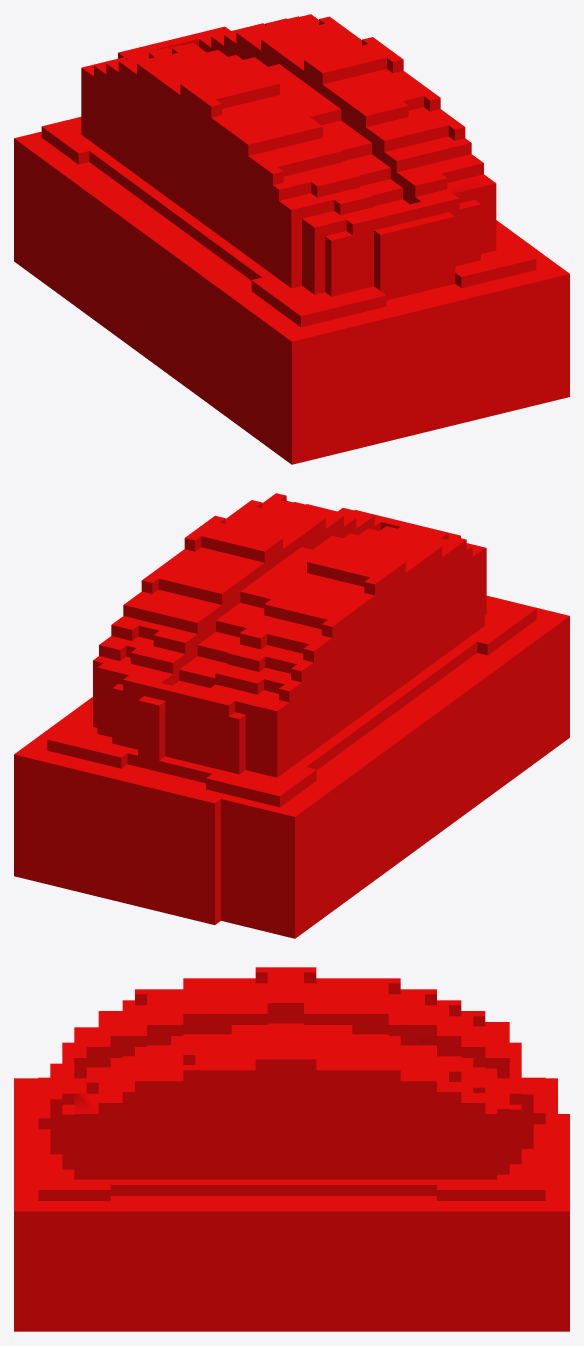
Rendered from cockpit_singulartiy_handle_base_2-1.fbx.
The picture shows the model from 3 angles, top to bottom: view 1: azimuth 30°, elevation 25°; view 2: azimuth 150°, elevation 25°; view 3: azimuth 270°, elevation 25°; orthographic projection. The views are drawn at different scales.
Parts seen in each view (by area): view 1: singulartiy_handle_base; view 2: singulartiy_handle_base; view 3: singulartiy_handle_base.
Part boxes in pixels (x1,y1,x2,y2): singulartiy_handle_base: [14, 14, 569, 464]; singulartiy_handle_base: [14, 493, 569, 938]; singulartiy_handle_base: [14, 967, 569, 1331].
Size of the model in its own units: 162 by 150 by 287.
